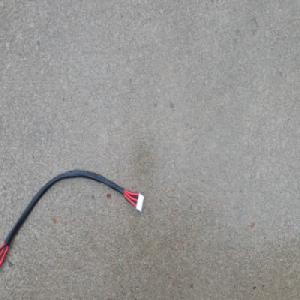Wire: (0, 168, 146, 274)
